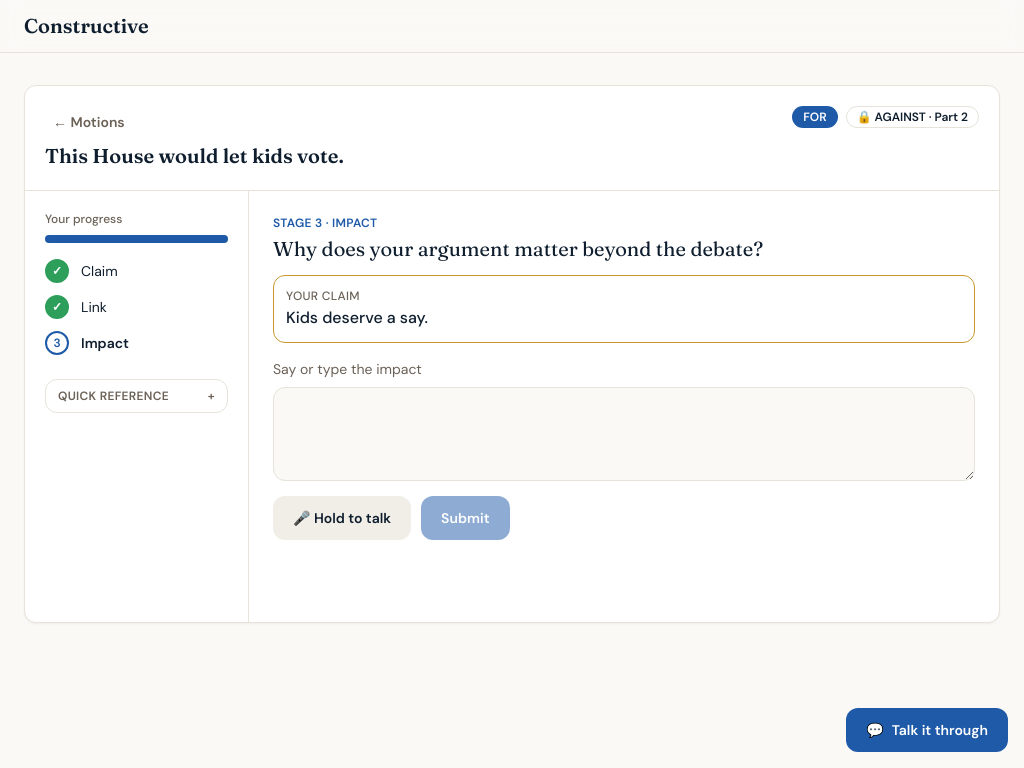
Test case: FlowShell › revisiting a completed stage › shows a Claim recap without disturbing where you actually are
Step 1. Click the button "✓ Claim" → (136, 271), box 45,259 -> 228,283
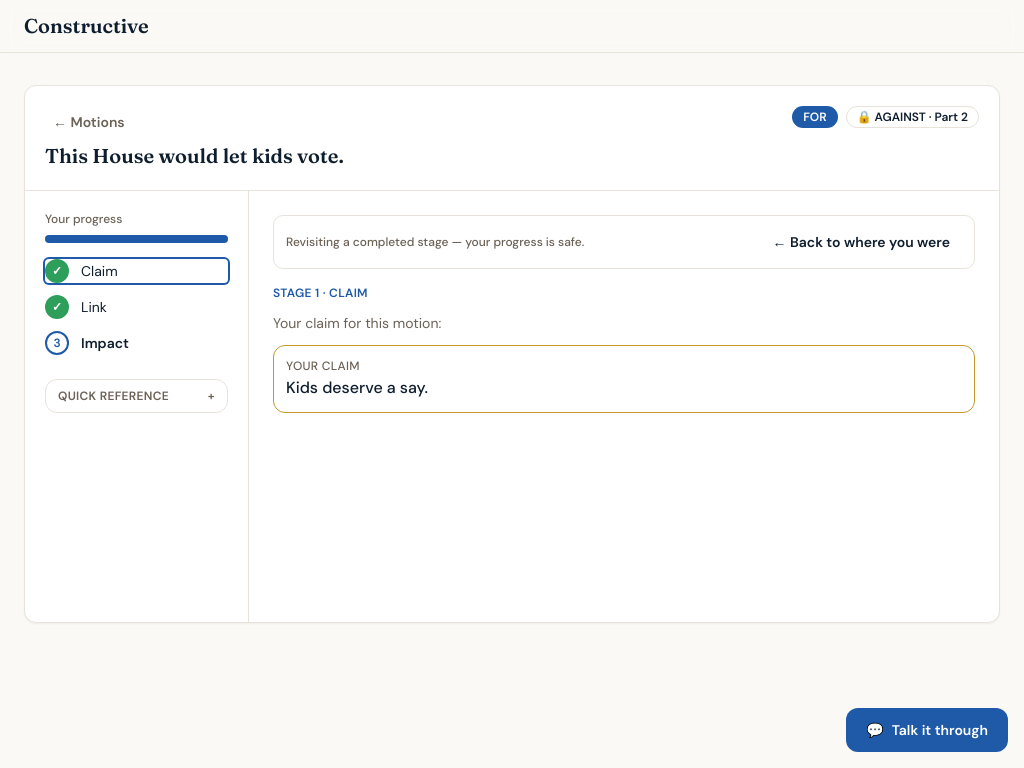
Result: the text "Revisiting a completed stage — your progress is safe." is shown at 286,234 -> 584,250
Step 2. Click the button "← Back to where you were" → (861, 242), box 760,224 -> 962,260
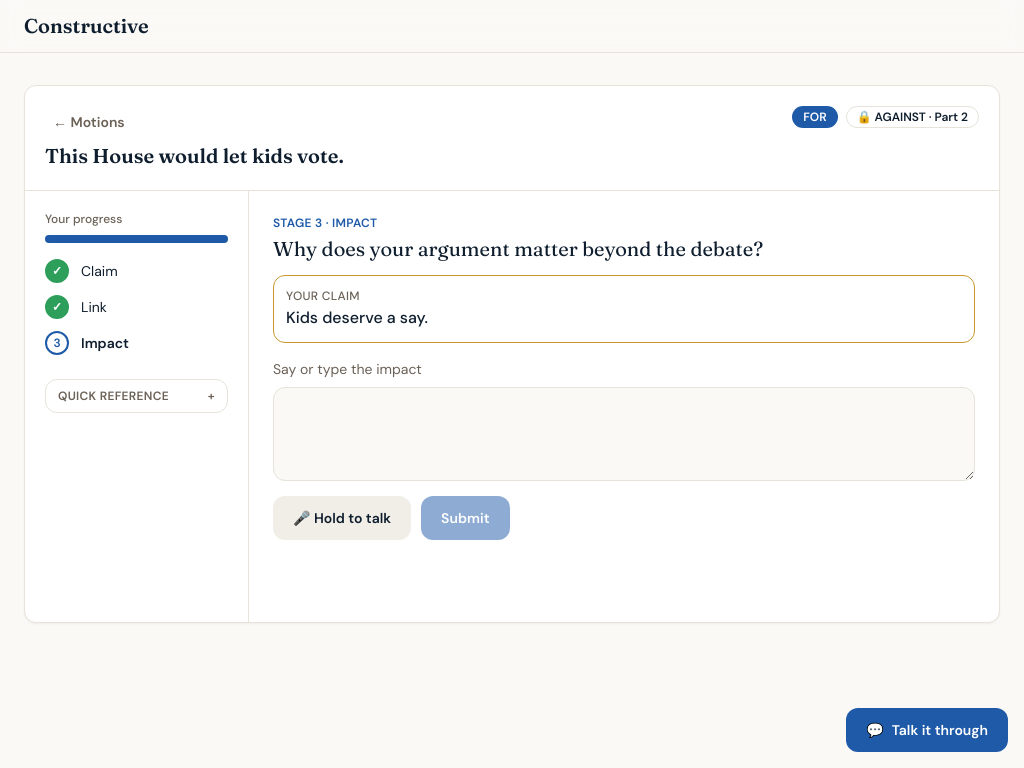
Result: the text "Say or type the impact" is shown at 273,360 -> 422,378
